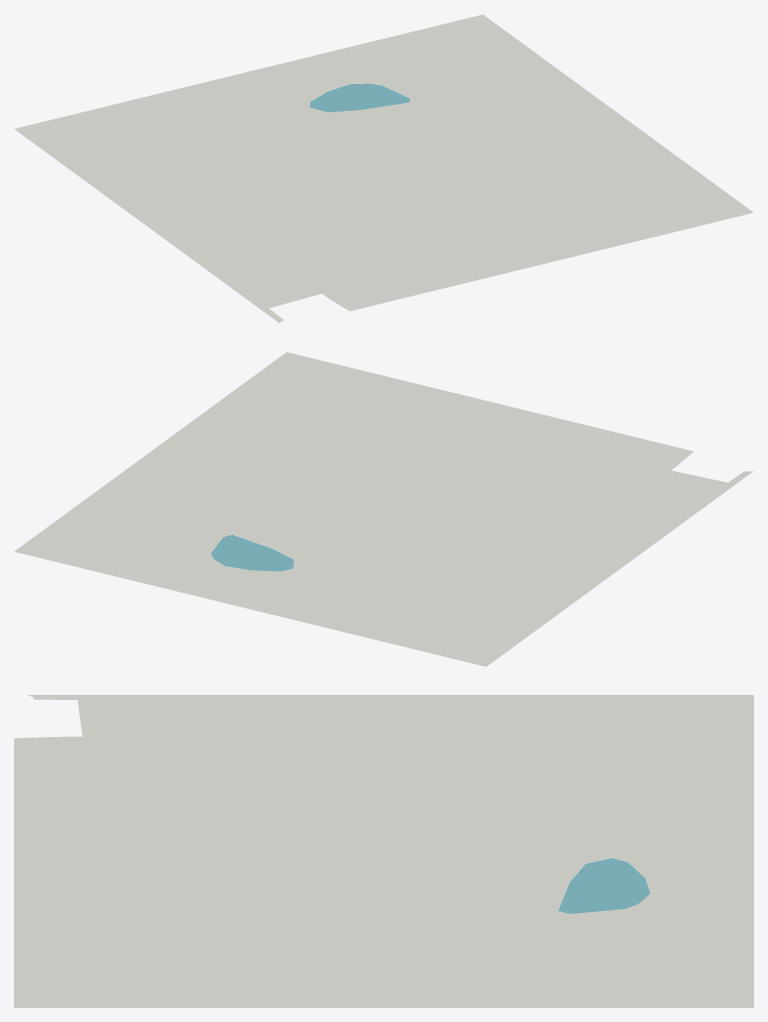
The picture shows the model from 3 angles, top to bottom: view 1: azimuth 30°, elevation 25°; view 2: azimuth 150°, elevation 25°; view 3: azimuth 270°, elevation 25°; orthographic projection. The views are drawn at different scales.
Parts seen in each view (by area): view 1: city; view 2: city; view 3: city.
Boxes of the visible parts, left/top/right/bottom form: city: left=14, top=14, right=753, bottom=323; city: left=14, top=352, right=753, bottom=666; city: left=14, top=695, right=753, bottom=1007.
Bounding box in the file's own units: 500 × 0.18 × 500.
